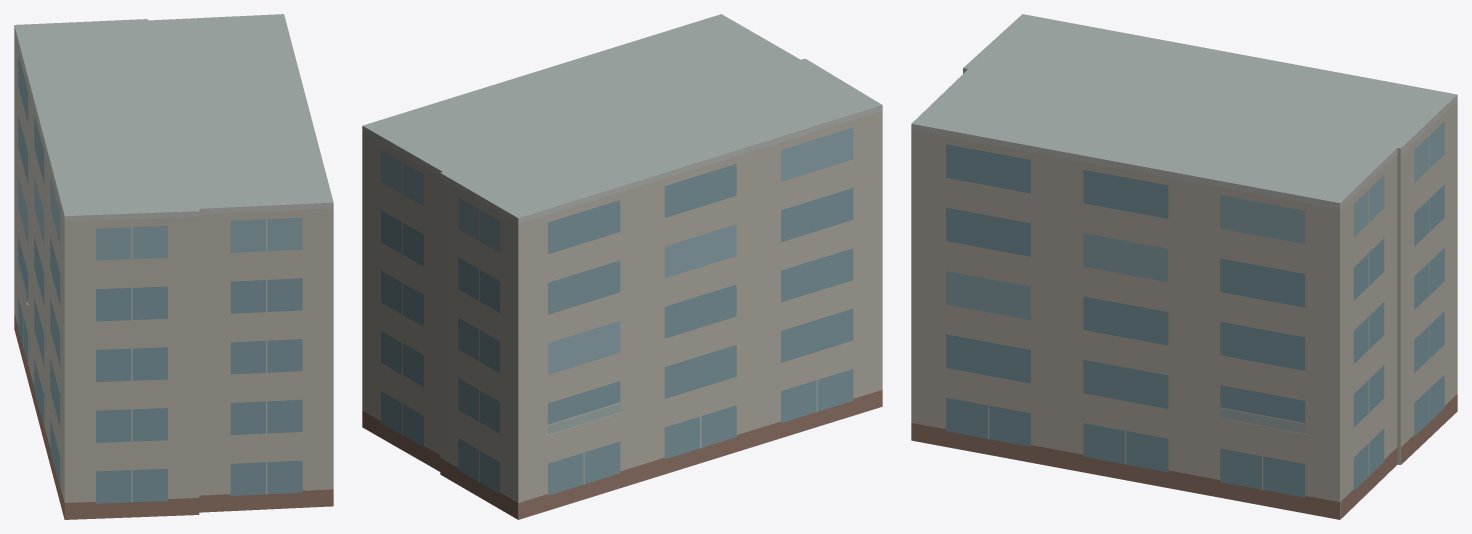
The model's file is survey-upis-32739946.glb.
3 views of the same model, side by side, from view 1: azimuth 30°, elevation 25°; view 2: azimuth 150°, elevation 25°; view 3: azimuth 270°, elevation 25° (orthographic). The views are drawn at different scales.
Parts seen in each view (by area): view 1: survey-upis-32739946.tmp; view 2: survey-upis-32739946.tmp; view 3: survey-upis-32739946.tmp.
Boxes of the visible parts, <box> form: survey-upis-32739946.tmp: <box>14,14,333,519</box>; survey-upis-32739946.tmp: <box>362,14,882,519</box>; survey-upis-32739946.tmp: <box>911,14,1457,519</box>.
Size of the model in its own units: 16.4 by 12.8 by 20.02.
